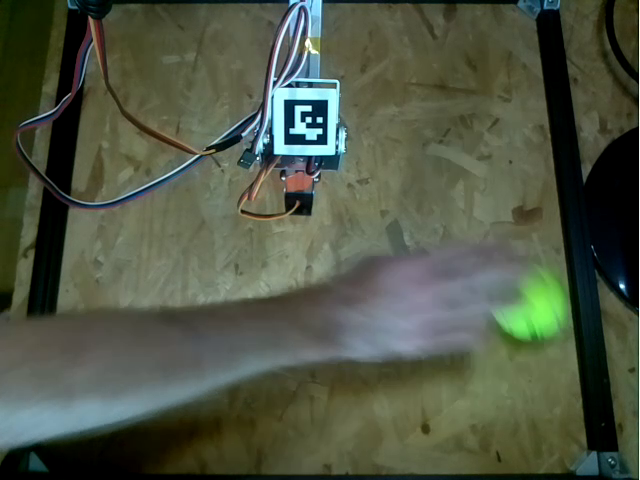tennis_ball: (499, 269, 568, 340)
